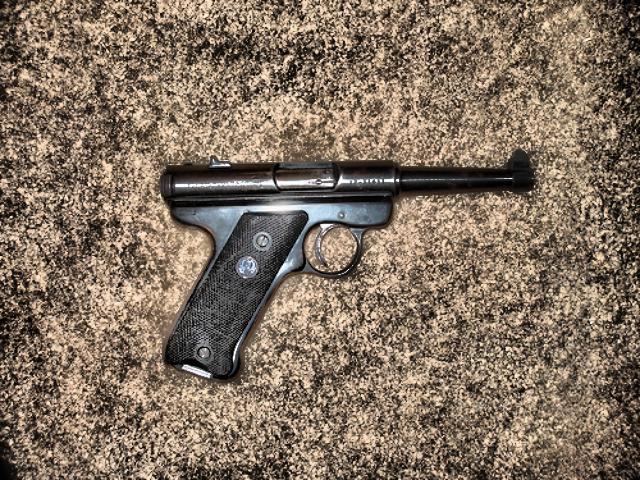pistol: (154, 150, 534, 376)
